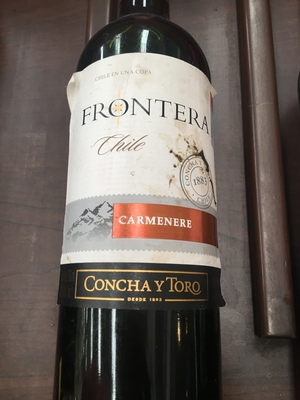frontera carmenere: (68, 19, 217, 400)
